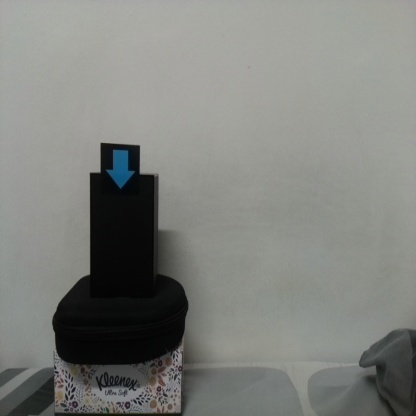id_2: (101, 144, 140, 198)
